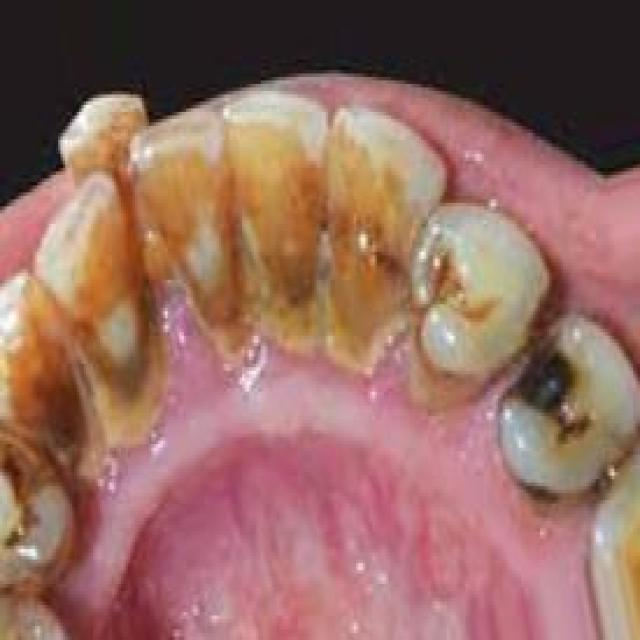caries: (505, 335, 612, 450), (418, 239, 496, 332)
